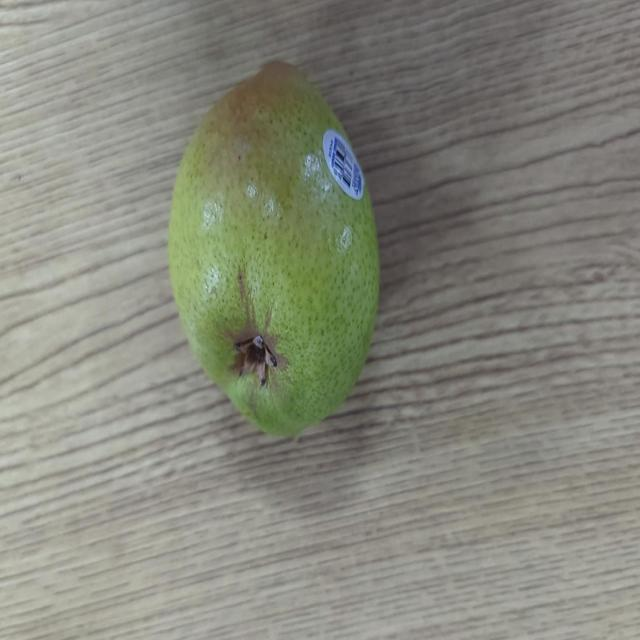Pir: (169, 67, 380, 459)
